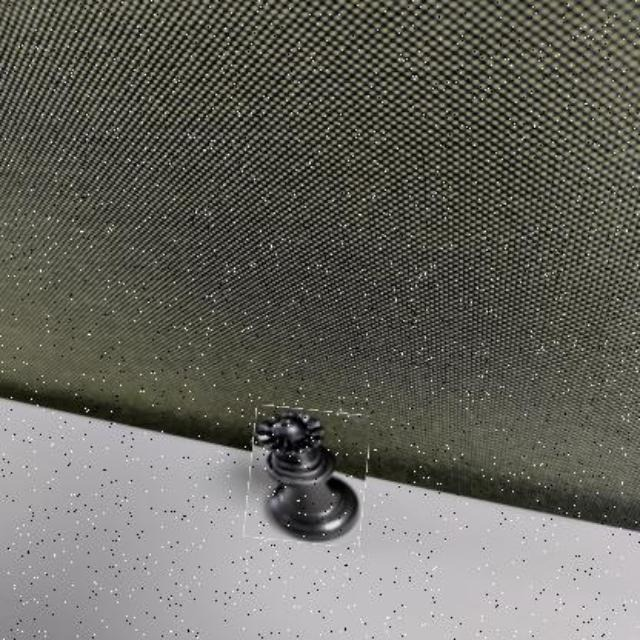black-queen: (246, 409, 367, 545)
